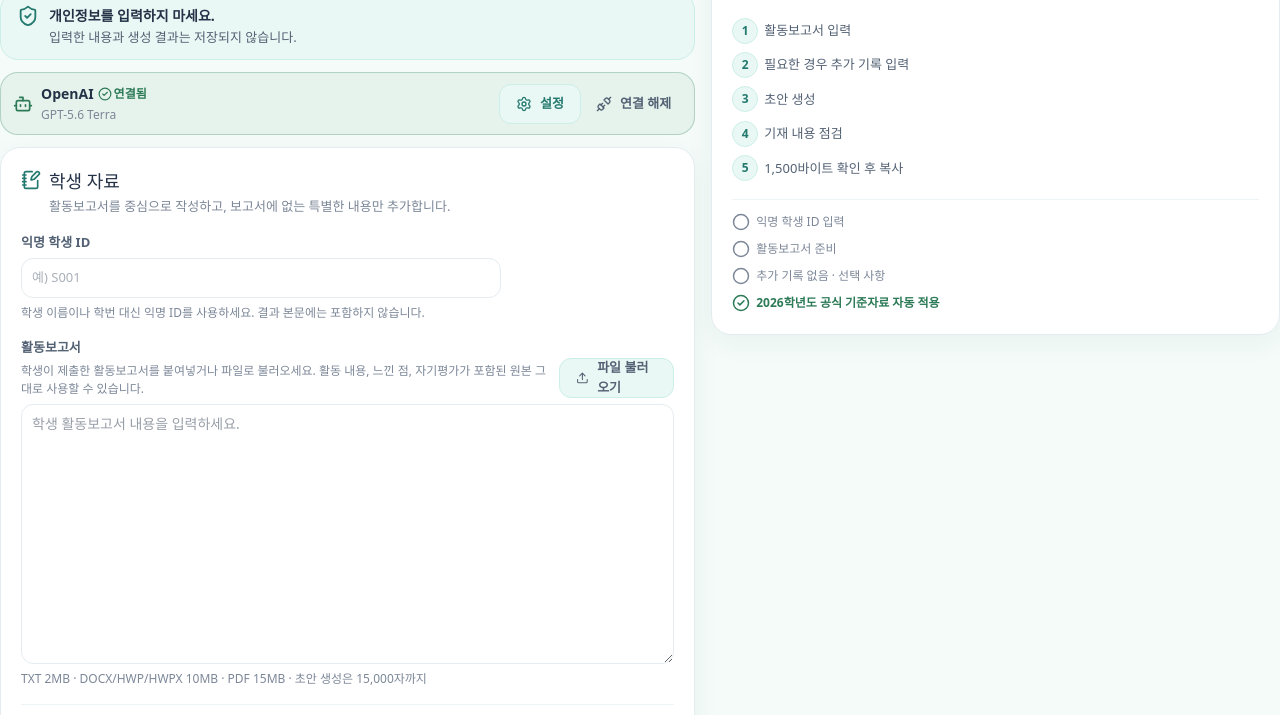
AiDocumentWriter › validates the anonymous ID and privacy confirmation
Type "활동 내용" into the text box labelled "활동보고서".
click(348, 534); type("활동 내용")  # box [21, 404, 674, 664]
(page scrolled)
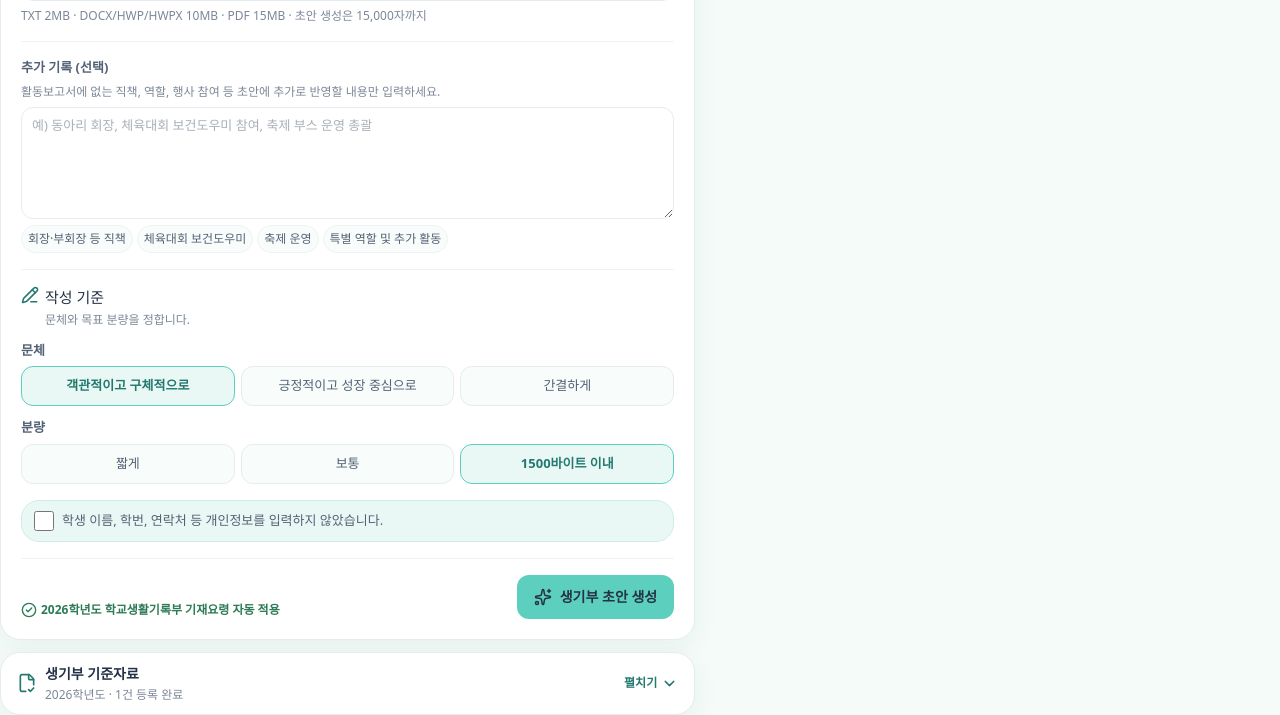
Click the button "생기부 초안 생성".
click(595, 597)  # box [517, 575, 674, 619]
(page scrolled)
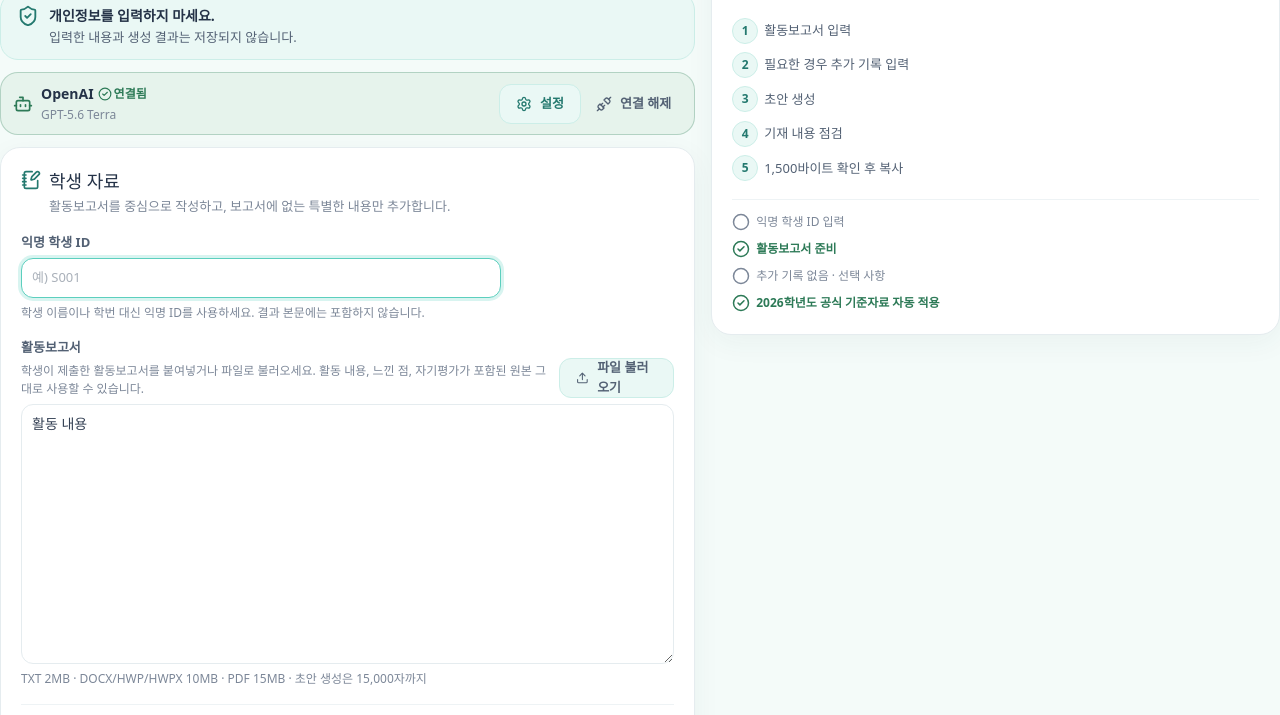
Type "S001" into the field labelled "익명 학생 ID 학생 이름이나 학번 대신 익명 ID를 사용하세요. 결과 본문에는 포함하지 않습니다.".
click(261, 278); type("S001")  # box [21, 258, 501, 298]
(page scrolled)
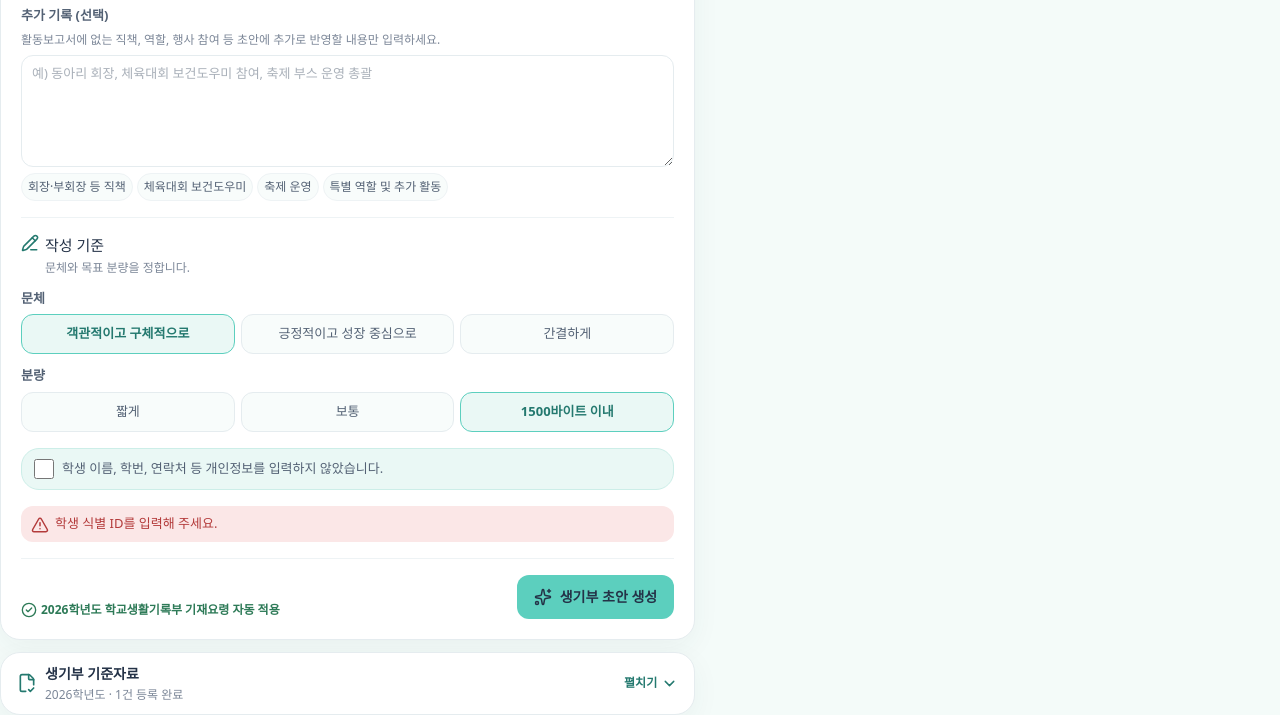
Click the button "생기부 초안 생성".
click(595, 597)  # box [517, 575, 674, 619]
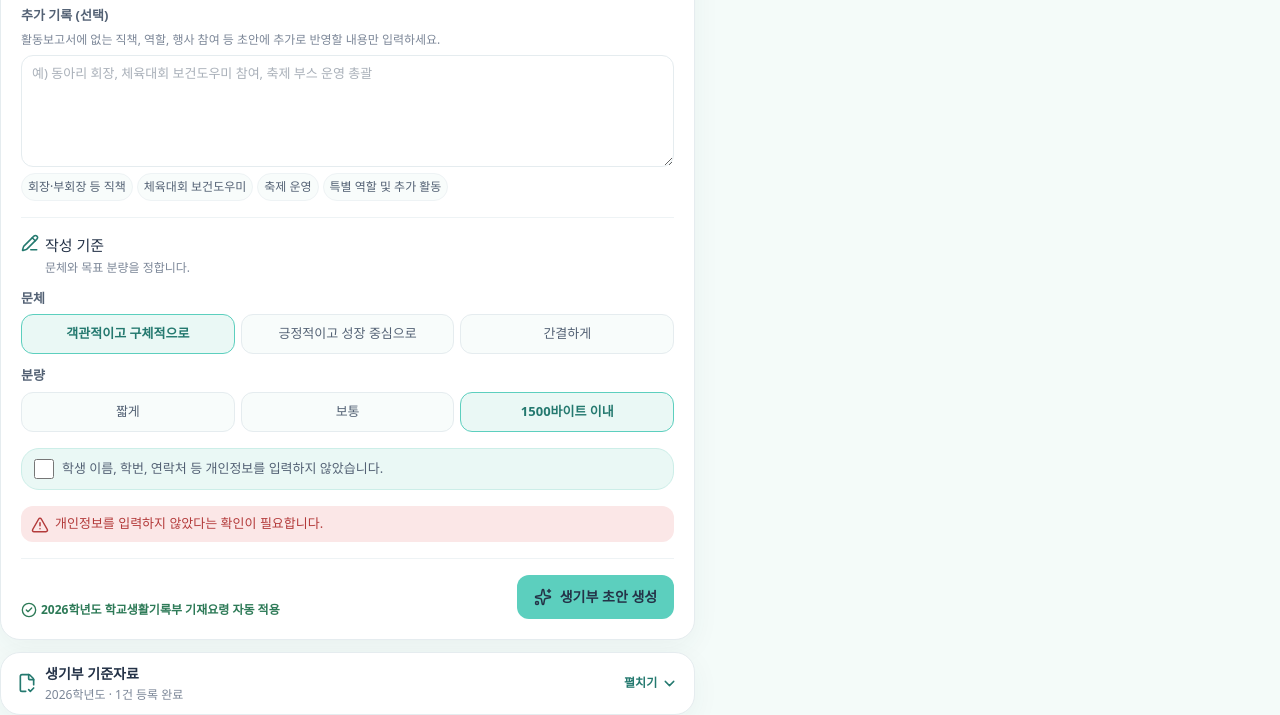
Check: the message reads "개인정보를 입력하지 않았다는 확인이 필요합니다.", box [55, 514, 323, 532]
